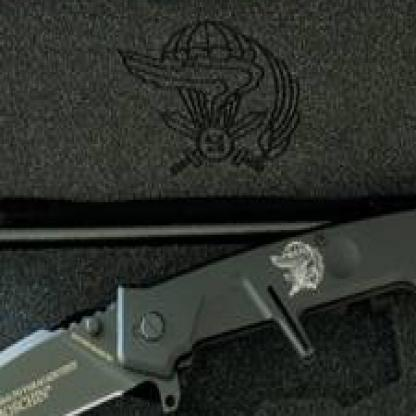knife: (0, 279, 194, 414)
